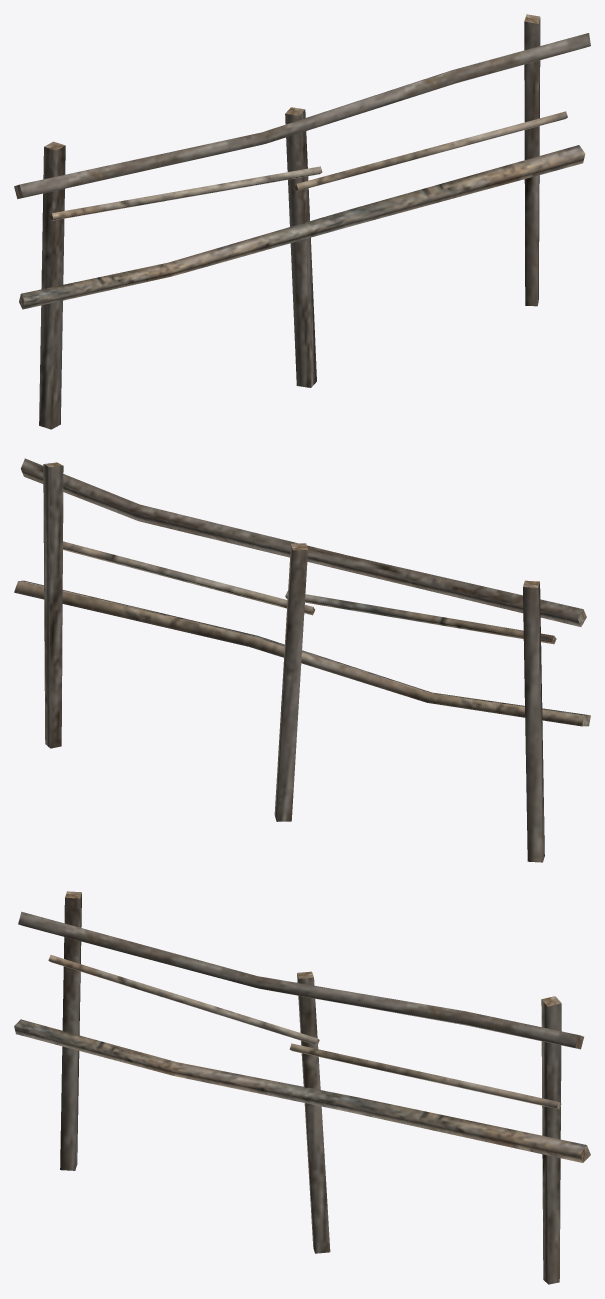
File: Fence2B_LOD1.fbx
3 views of the same model, one above another, from view 1: azimuth 30°, elevation 25°; view 2: azimuth 150°, elevation 25°; view 3: azimuth 330°, elevation 25° (orthographic).
Visible parts, largest first — view 1: polySurface213; view 2: polySurface213; view 3: polySurface213.
Part boxes in pixels (left/top/right/bottom): polySurface213: left=14, top=14, right=590, bottom=429; polySurface213: left=14, top=458, right=590, bottom=862; polySurface213: left=14, top=891, right=590, bottom=1284.
Bounding box in the file's own units: 3.12 × 1.61 × 0.227.
